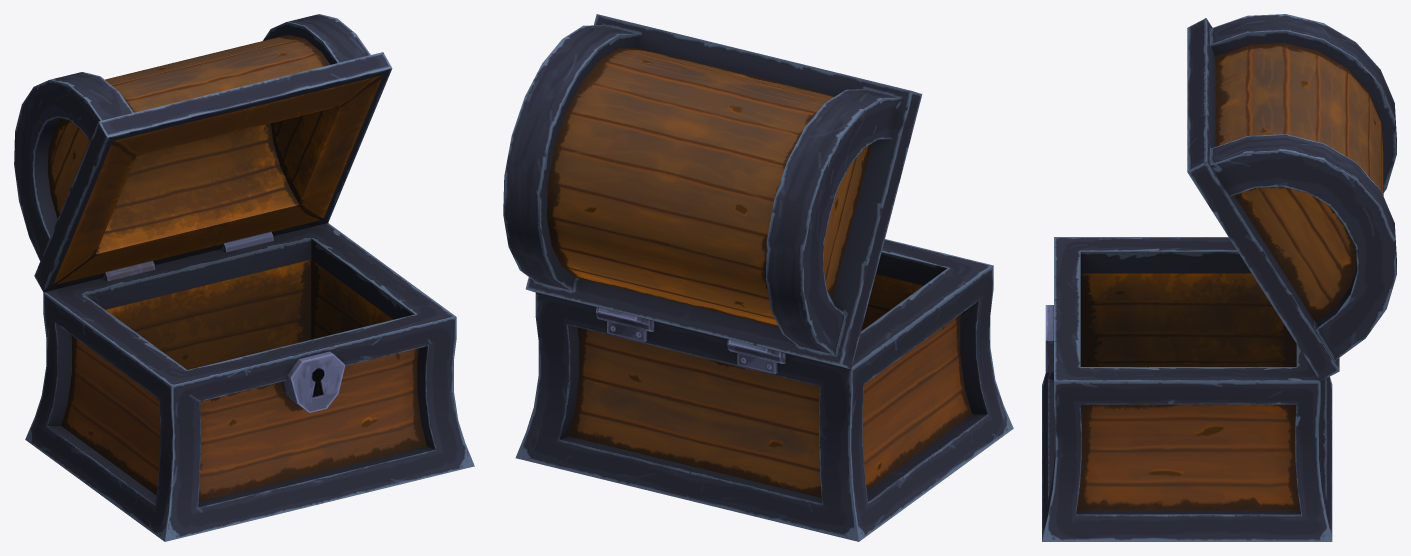
File: handpainted_treasure_chest.glb
The picture shows the model from 3 angles, left to right: view 1: azimuth 30°, elevation 25°; view 2: azimuth 150°, elevation 25°; view 3: azimuth 270°, elevation 25°; orthographic projection. The views are drawn at different scales.
Visible parts, largest first — view 1: TreasureChest2; view 2: TreasureChest2; view 3: TreasureChest2.
Boxes of the visible parts, bbox=[...] form: TreasureChest2: bbox=[14, 14, 474, 541]; TreasureChest2: bbox=[503, 14, 1013, 541]; TreasureChest2: bbox=[1042, 14, 1396, 541].
Bounding box in the file's own units: 8.43 × 9.54 × 8.05.
1 material, 1 textured.
